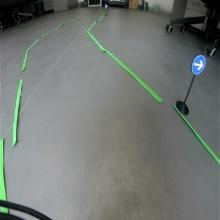right: (190, 55, 206, 74)
